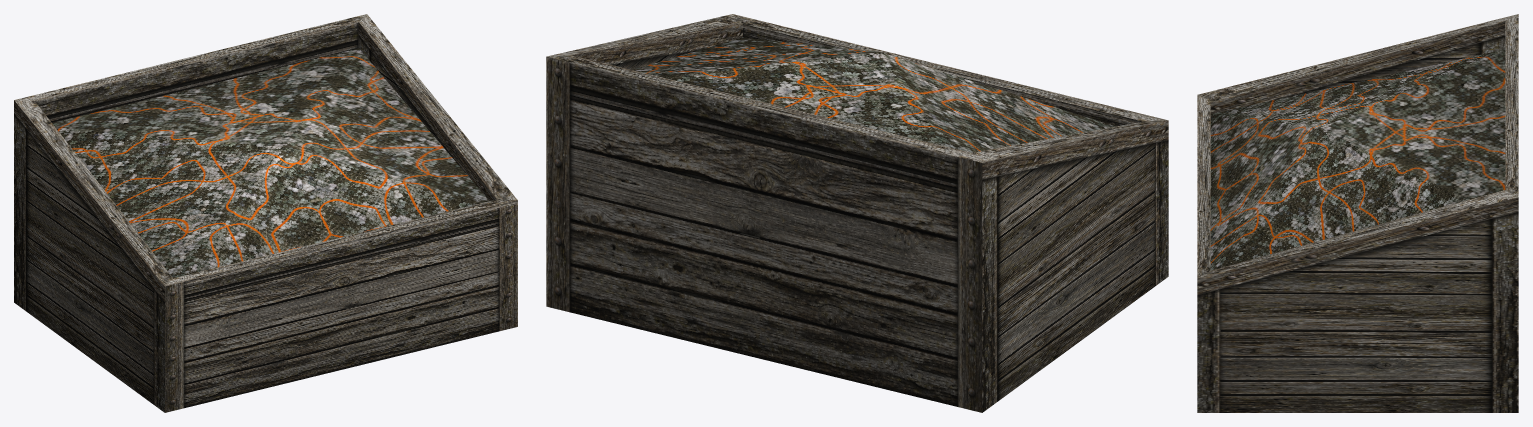
File: mm9_deco_thjoradbin.glb
3 views of the same model, side by side, from view 1: azimuth 30°, elevation 25°; view 2: azimuth 150°, elevation 25°; view 3: azimuth 270°, elevation 25° (orthographic). The views are drawn at different scales.
Parts seen in each view (by area): view 1: Thjoradbin; view 2: Thjoradbin; view 3: Thjoradbin.
Boxes of the visible parts, x1,y1,x2,y2 form: Thjoradbin: (14,14,517,412); Thjoradbin: (546,14,1168,412); Thjoradbin: (1197,14,1518,412).
Size of the model in its own units: 1.91 by 1.05 by 1.42.
3 materials, 3 textured.
